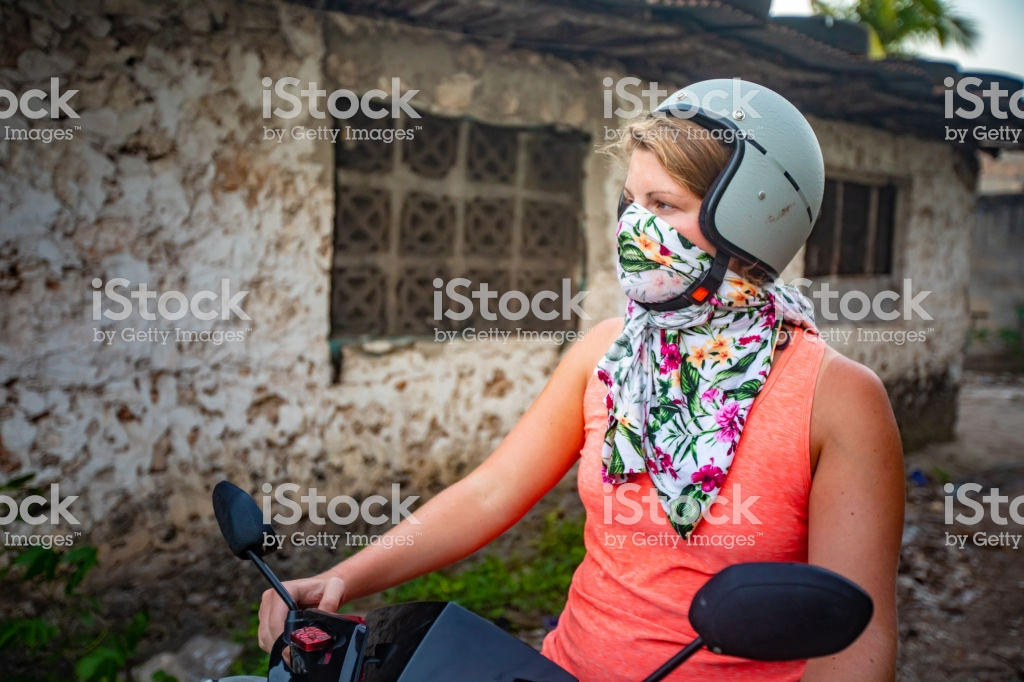helmet: (651, 67, 828, 287)
